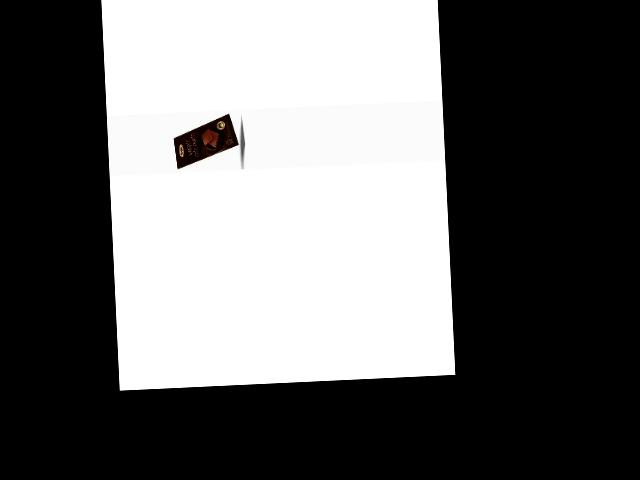chocolate: (171, 111, 242, 169)
